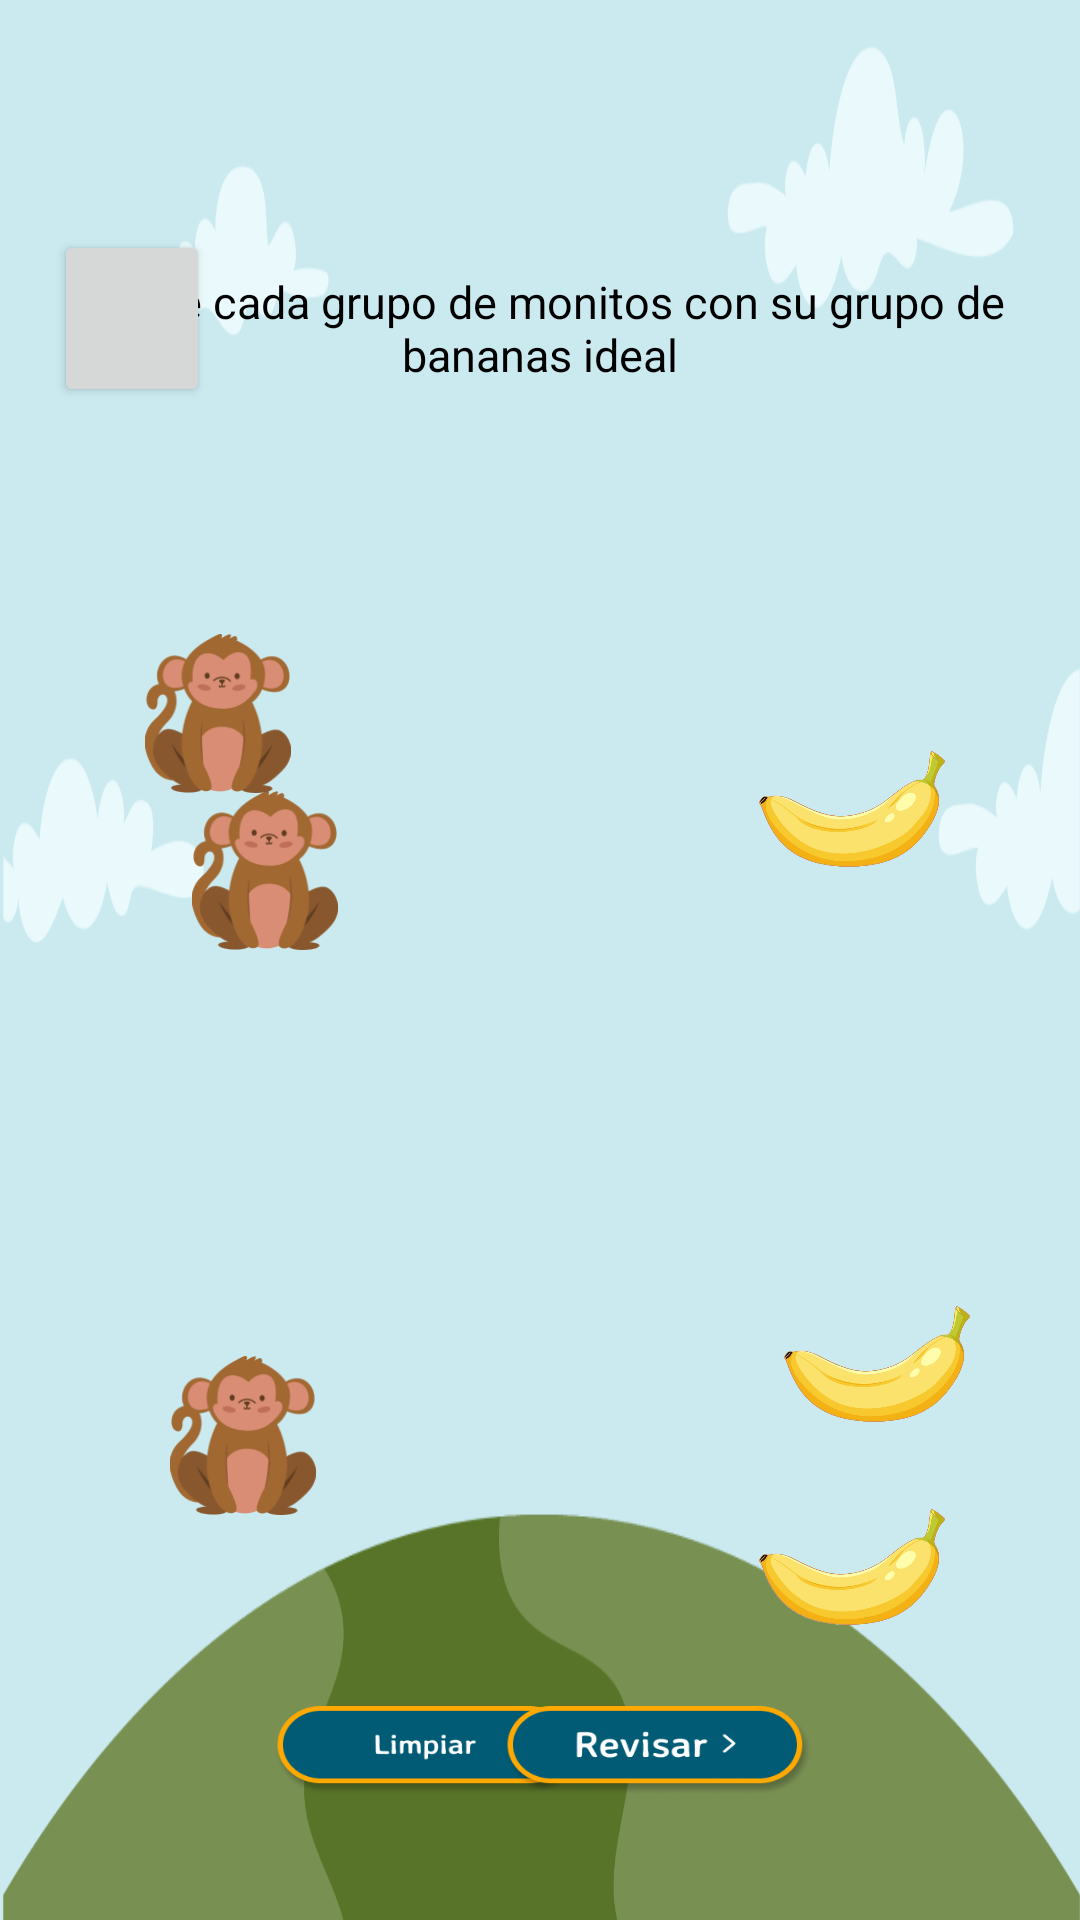

Point at icon controls on the screen. Image size 1080px x 1920px, points as point (x, y).
generic banana: point (852, 809), point (877, 1364), point (850, 1583)
generic monkey: point (218, 713), point (258, 870), point (243, 1435)
